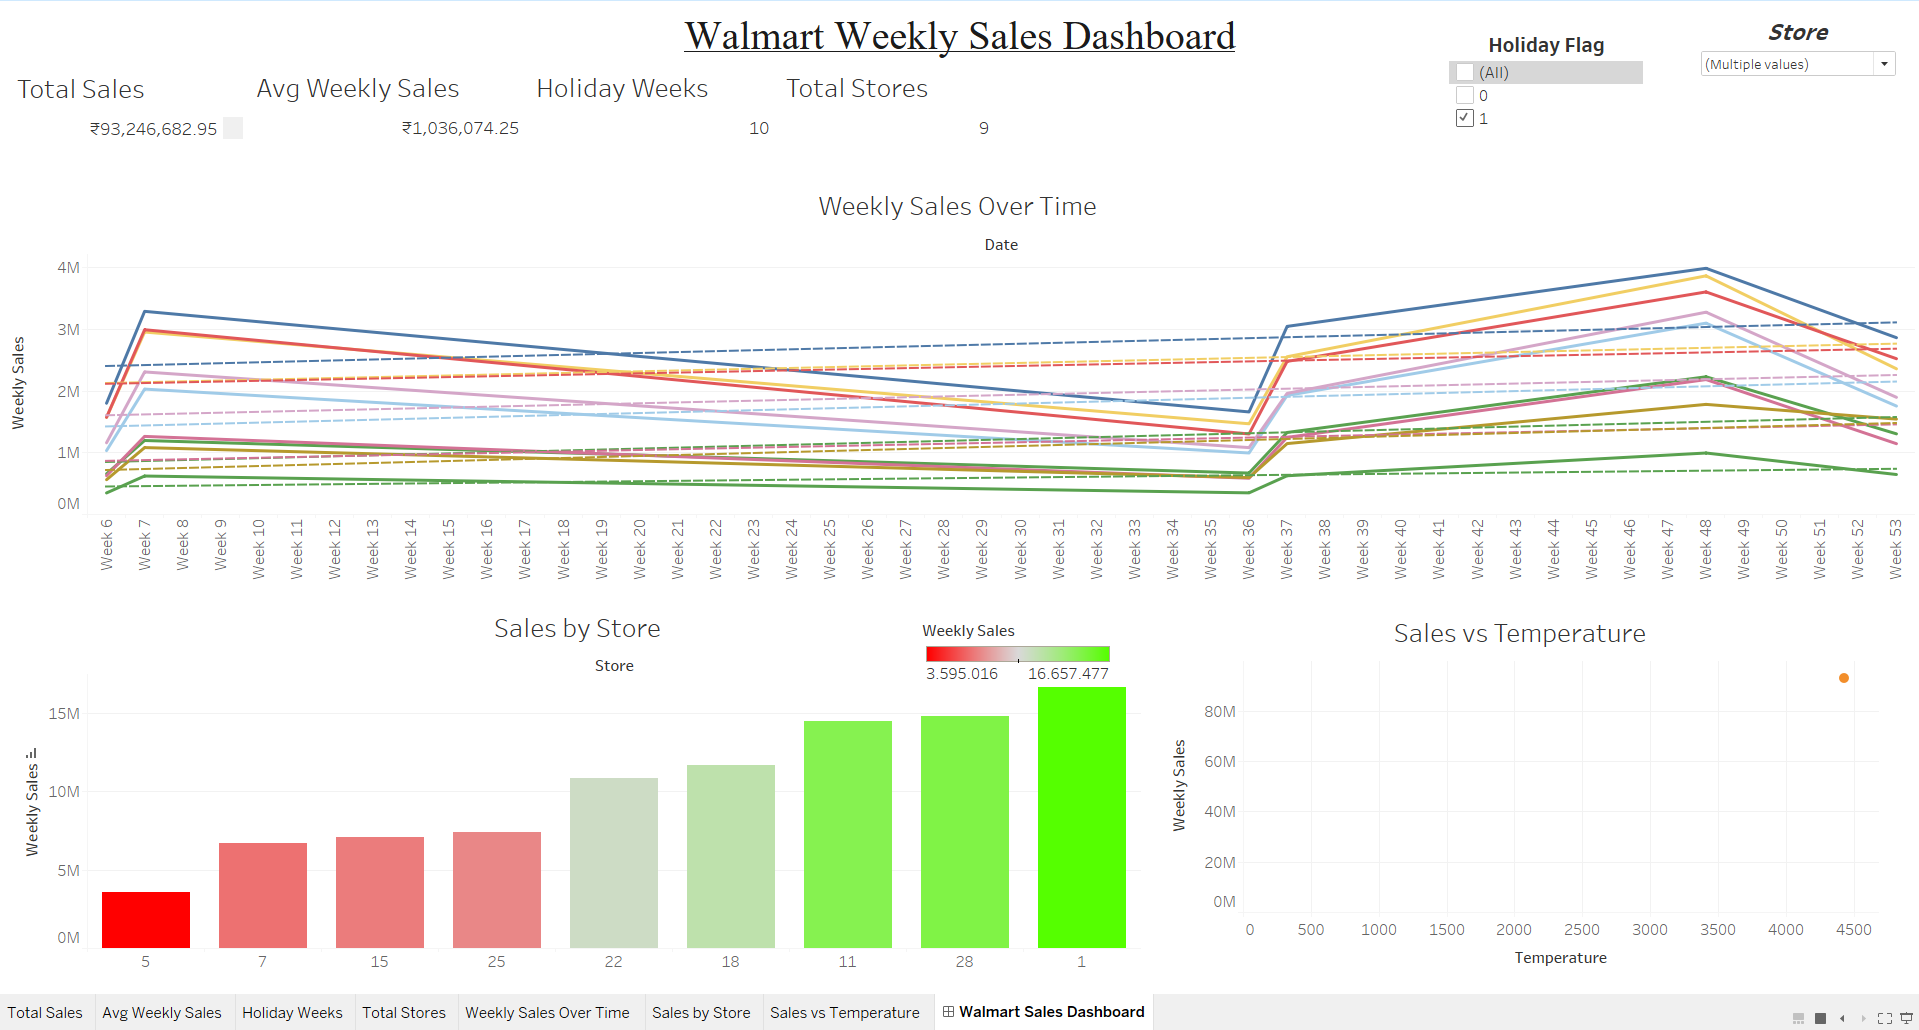

This screenshot's page, from the dashboard's own definition file:
{"tool":"tableau","page":{"name":"Walmart Sales Dashboard","canvas":[1000,1000],"units":"permille","ordinal":0},"visuals":[{"type":"title","box":[4.2,10,991.5,66.2]},{"type":"filter","title":"Weekly Sales Over Time","param":"[federated.1nankvx15jbcny1051ezz07zv9y5].[none:Store:ok]","box":[884.5,13.7,104.5,147.3]},{"type":"filter","title":"Weekly Sales Over Time","param":"[federated.1nankvx15jbcny1051ezz07zv9y5].[none:Holiday_Flag:ok]","box":[754.4,28.7,101.4,123.6]},{"type":"worksheet","title":"Total Sales","mark":"Automatic","box":[4.2,76.2,127.1,102.4]},{"type":"worksheet","title":"Avg Weekly Sales","mark":"Automatic","box":[131.4,76.2,148.3,102.4]},{"type":"worksheet","title":"Holiday Weeks","mark":"Automatic","box":[279.7,76.2,132.4,102.4]},{"type":"worksheet","title":"Total Stores","mark":"Automatic","box":[412.1,76.2,116.5,102.4]},{"type":"worksheet","title":"Weekly Sales Over Time","mark":"Automatic","rows":["Weekly_Sales"],"cols":["Date"],"box":[0,184.8,997.6,413.2]},{"type":"worksheet","title":"Sales by Store","mark":"Automatic","rows":["Weekly_Sales"],"cols":["Store"],"box":[7.3,609.2,587.1,379.5]},{"type":"worksheet","title":"Sales vs Temperature","mark":"Circle","rows":["Weekly_Sales"],"cols":["Temperature"],"box":[604.8,614.2,373.9,367]},{"type":"legend","title":"Sales by Store","param":"[federated.1nankvx15jbcny1051ezz07zv9y5].[sum:Weekly_Sales:qk]","box":[480.2,623,100.2,59.9]}]}

Visuals, with their boxes on the dashboard's canvas, which has no fixed pixel size, in thousandths of its width and height (x1, y1, x2, y2). These are canvas units, not pixel positions in the 1919x1030 screenshot, which may show the page scaled, cropped or inside an application window:
title: (4, 10, 996, 76)
"Weekly Sales Over Time" filter: (884, 14, 989, 161)
"Weekly Sales Over Time" filter: (754, 29, 856, 152)
"Total Sales" worksheet: (4, 76, 131, 179)
"Avg Weekly Sales" worksheet: (131, 76, 280, 179)
"Holiday Weeks" worksheet: (280, 76, 412, 179)
"Total Stores" worksheet: (412, 76, 529, 179)
"Weekly Sales Over Time" worksheet: (0, 185, 998, 598)
"Sales by Store" worksheet: (7, 609, 594, 989)
"Sales vs Temperature" worksheet (Circle marks): (605, 614, 979, 981)
"Sales by Store" legend: (480, 623, 580, 683)
